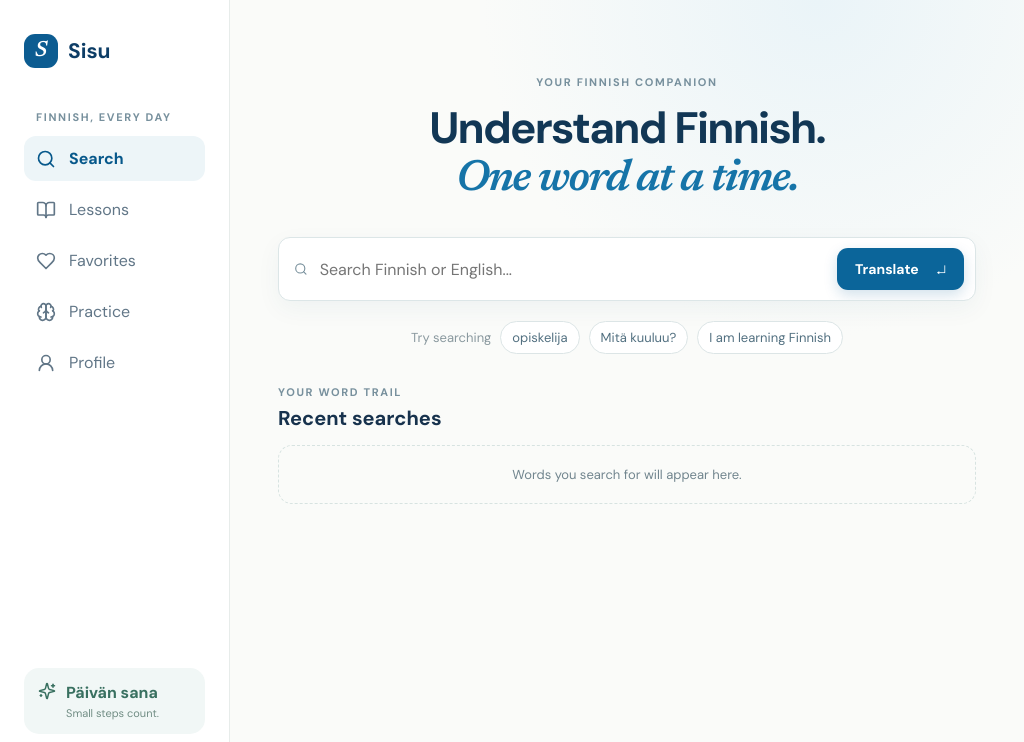
Scenario: replaces legacy Practice groups and old missed words without deleting Favorites
Click the button "Practice". click: (114, 312)
box: [24, 289, 205, 334]
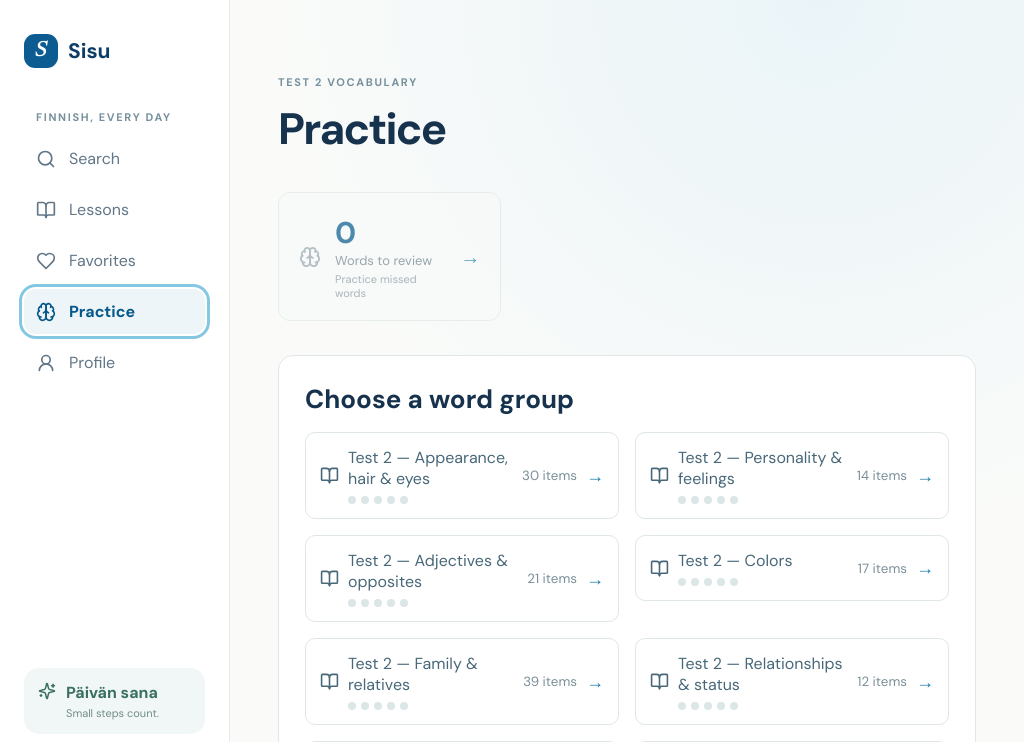
Expected: the button "0 Words to review Practice missed words →" is disabled, [278, 192, 501, 321]
Expected: the button "Test 2 — Appearance, hair & eyes 30 items →" is shown
Expected: the button "Test 2 — Personality & feelings 14 items →" is shown, [635, 432, 949, 519]
Click the button "Test 2 — Appearance, hair & eyes 30 items →". click: (428, 458)
box: [305, 432, 619, 519]
(page scrolled)
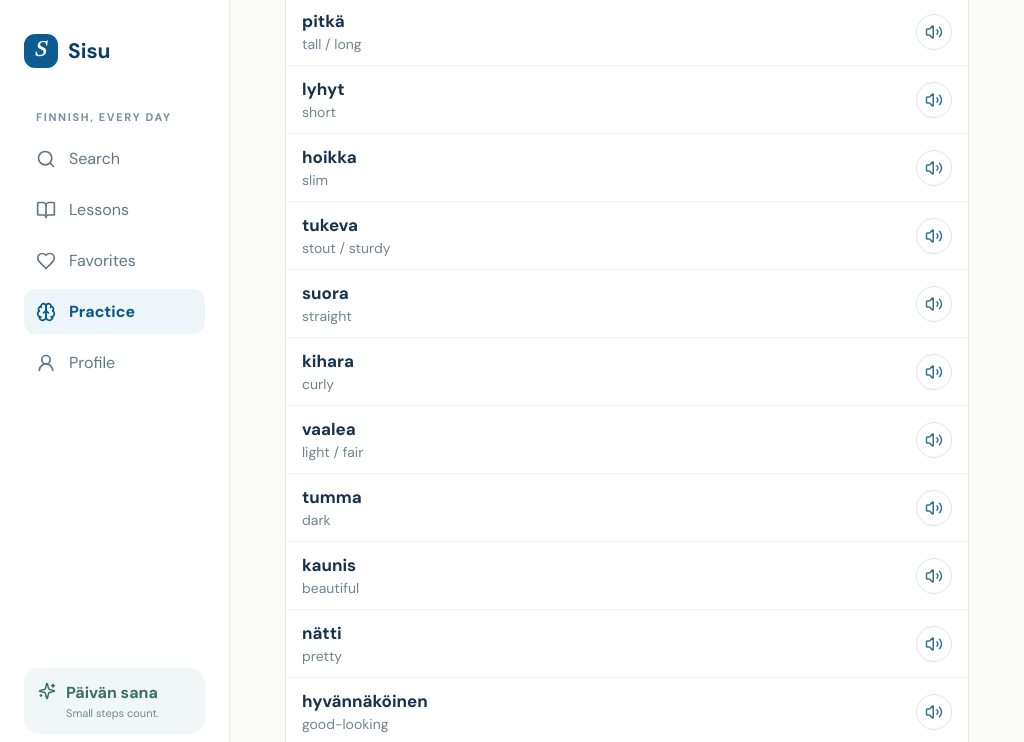
Expected: the text "kihara" is shown, [302, 350, 354, 372]
Expected: the text "curly" is shown, [302, 375, 334, 393]
